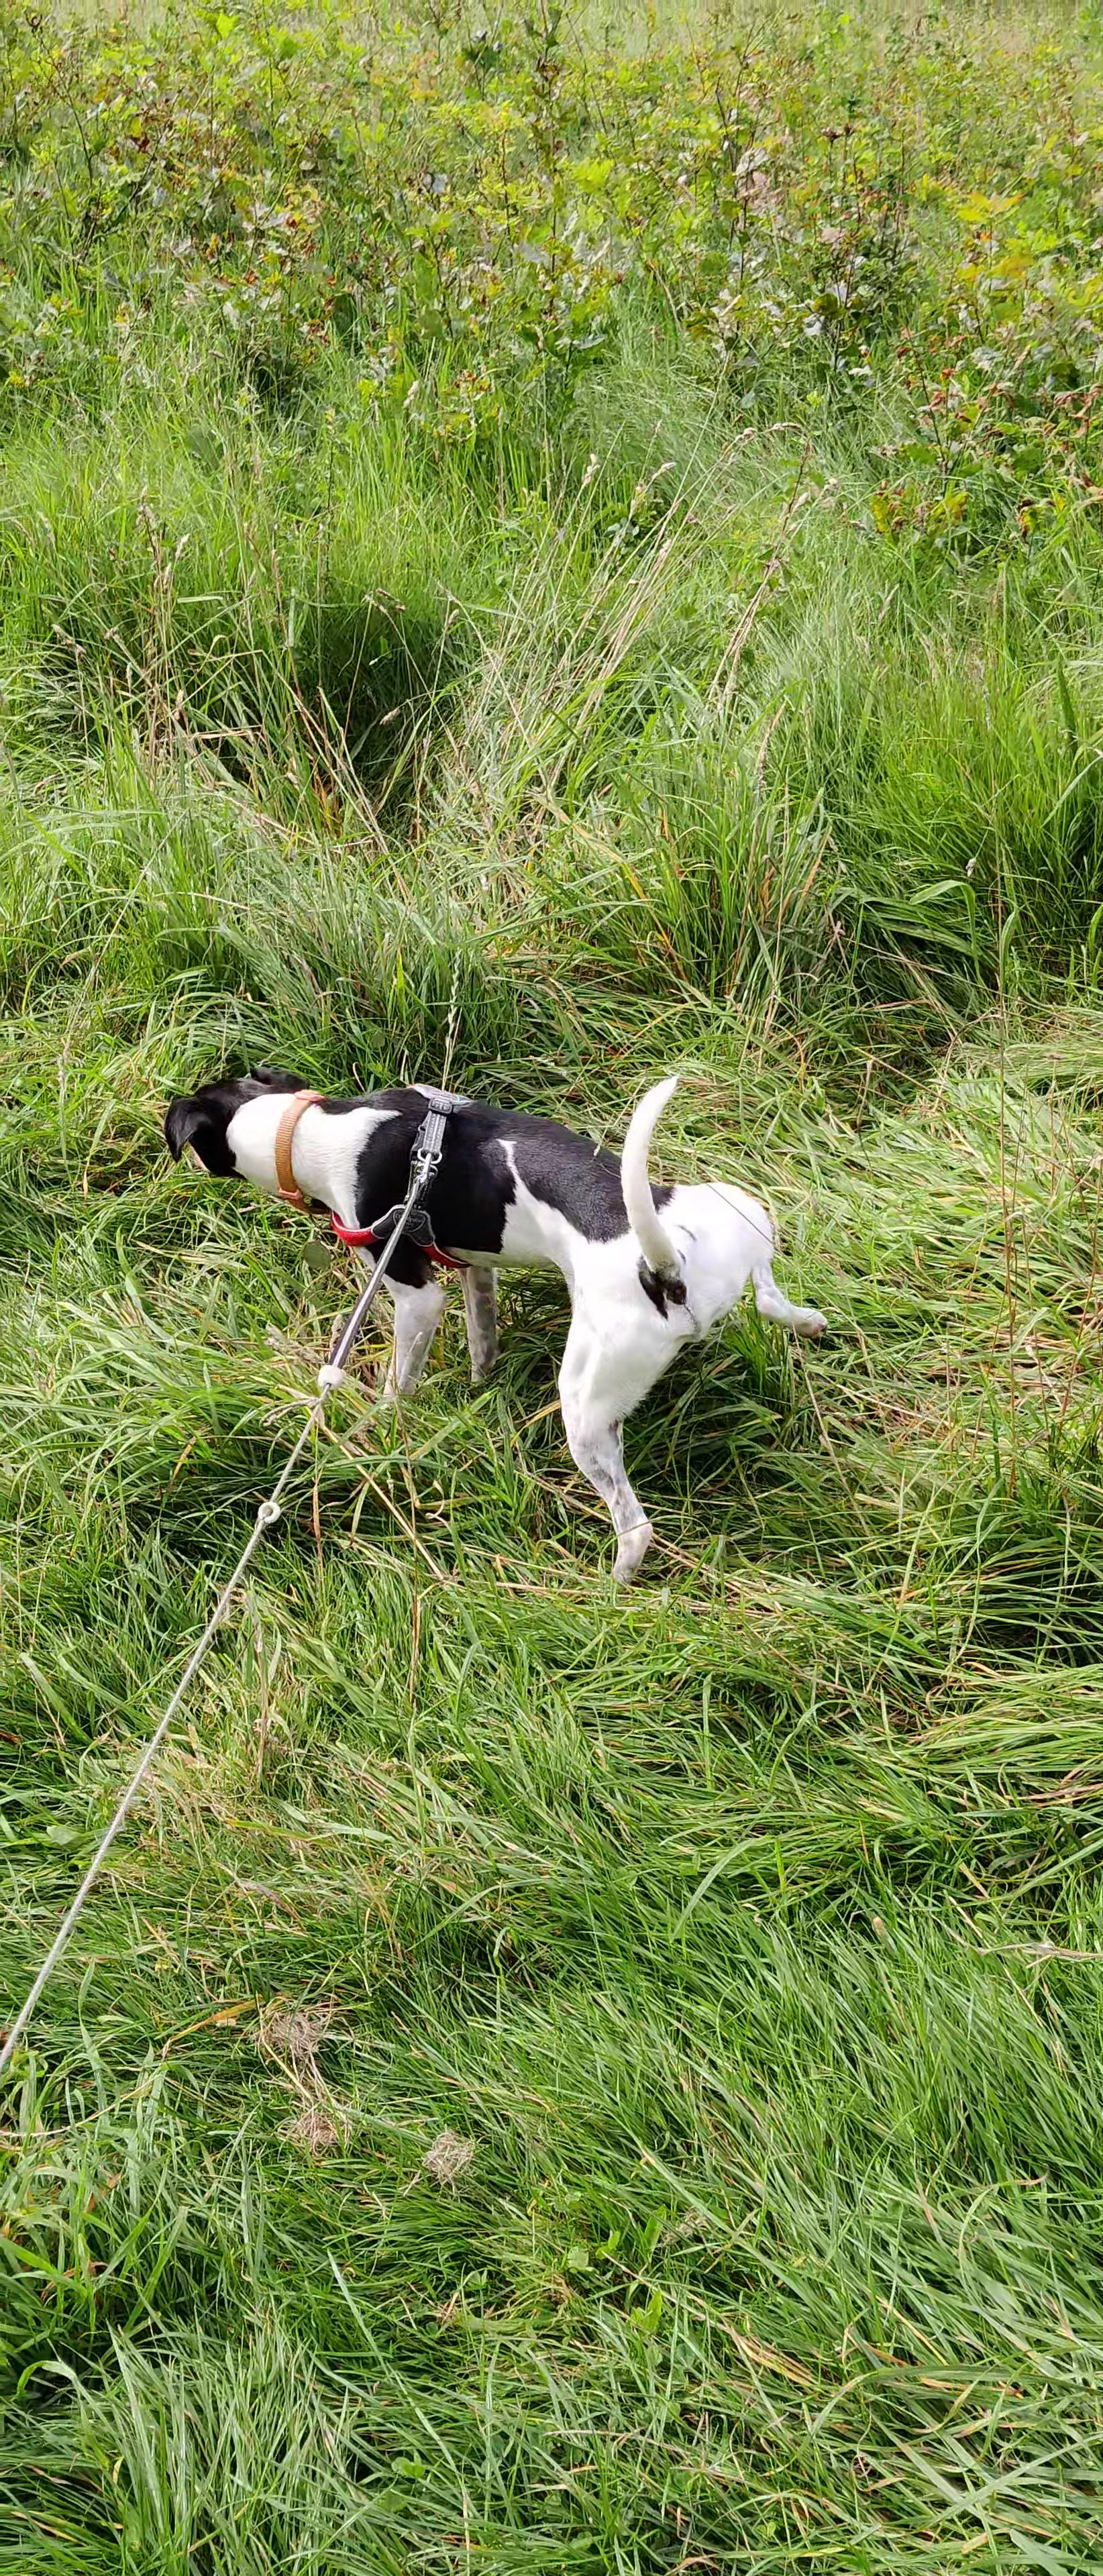Dog: (145, 1028, 840, 1603)
